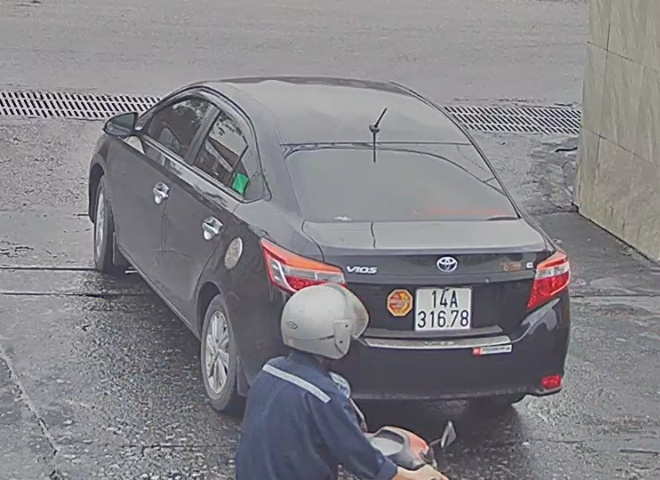vehicle plate: (415, 283, 476, 332)
